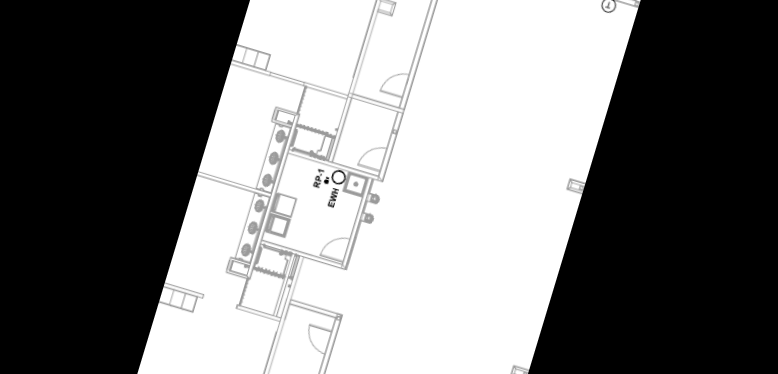door: (317, 230, 351, 266), (377, 64, 410, 101), (355, 141, 388, 175)
double door: (300, 318, 335, 357)
